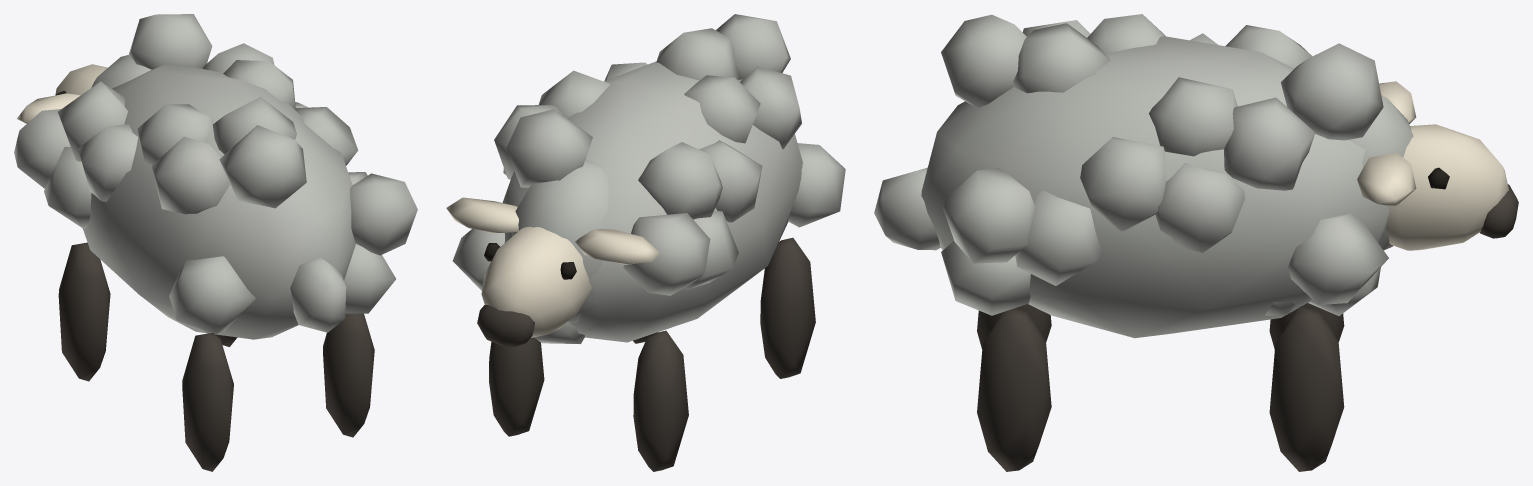
The model's file is sheep.glb.
The picture shows the model from 3 angles, left to right: view 1: azimuth 30°, elevation 25°; view 2: azimuth 150°, elevation 25°; view 3: azimuth 270°, elevation 25°; orthographic projection. The views are drawn at different scales.
Visible parts, largest first — view 1: wool body, foot.002, foot, foot.003, face; view 2: wool body, face, foot, foot.002, foot.001, nose, eye; view 3: wool body, face, foot.001, foot.003, nose, foot.002, foot.
Part boxes in pixels (box(x1,y1,x2,y2)): wool body: box(14, 14, 417, 339); foot.002: box(182, 333, 233, 471); foot: box(58, 242, 110, 381); foot.003: box(323, 313, 374, 437); face: box(17, 64, 107, 123); wool body: box(452, 14, 845, 344); face: box(446, 197, 659, 337); foot: box(633, 330, 688, 471); foot.002: box(760, 237, 815, 378); foot.001: box(489, 337, 544, 436); nose: box(477, 305, 534, 347); eye: box(484, 243, 576, 279); wool body: box(874, 14, 1413, 338); face: box(1357, 81, 1508, 250); foot.001: box(1269, 306, 1344, 471); foot.003: box(977, 308, 1051, 471); nose: box(1480, 184, 1518, 238); foot.002: box(977, 304, 1051, 349); foot: box(1269, 303, 1344, 349).
Size of the model in its own units: 0.8581 by 1.1 by 1.61.
